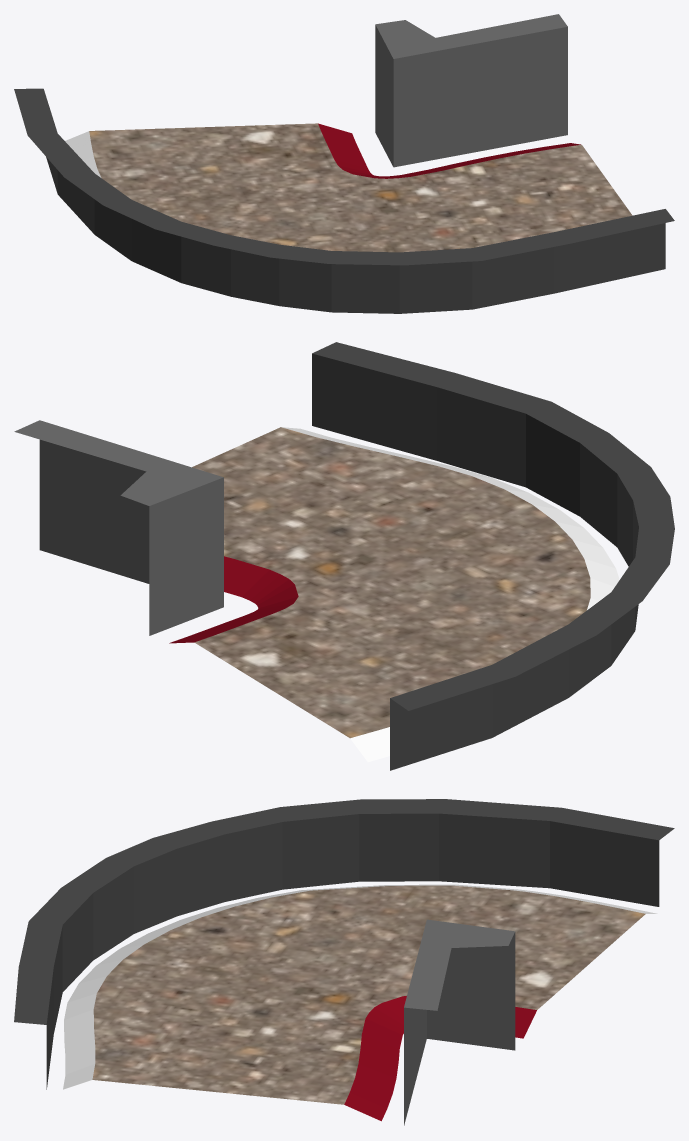
File: KartTrackS43.fbx
3 views of the same model, one above another, from view 1: azimuth 30°, elevation 25°; view 2: azimuth 150°, elevation 25°; view 3: azimuth 270°, elevation 25° (orthographic). The views are drawn at different scales.
Parts seen in each view (by area): view 1: PistaS43; view 2: PistaS43; view 3: PistaS43.
Part boxes in pixels (bbox=[...]): PistaS43: bbox=[14, 14, 674, 313]; PistaS43: bbox=[14, 342, 674, 770]; PistaS43: bbox=[14, 799, 674, 1125].
Size of the model in its own units: 3545 by 749 by 3760.
